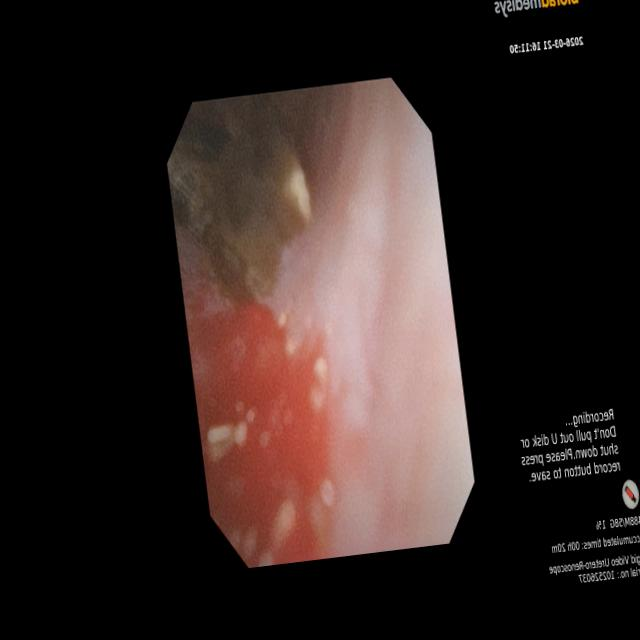stone-new: (167, 95, 312, 303)
